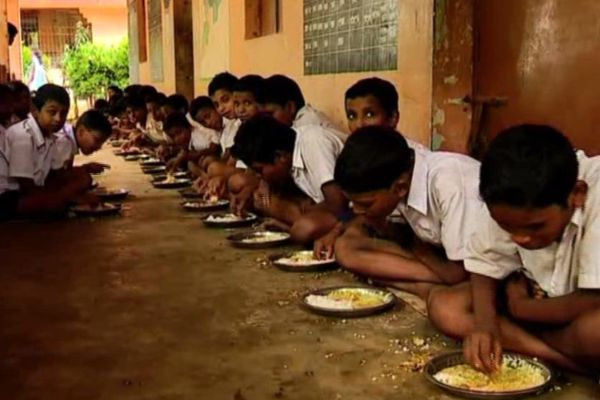student: (477, 125, 587, 248), (340, 134, 428, 220), (227, 115, 301, 179), (339, 81, 412, 141), (253, 72, 309, 134), (33, 82, 77, 144), (71, 104, 111, 155), (230, 72, 265, 125), (189, 92, 227, 134), (203, 74, 239, 114)
